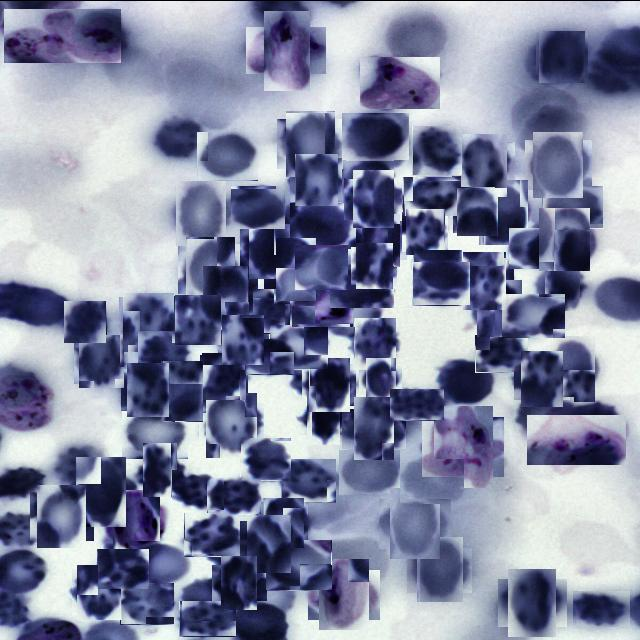red blood cell: (384, 492, 446, 554), (72, 461, 132, 521), (202, 395, 261, 453), (265, 539, 332, 590), (122, 407, 188, 458), (172, 184, 230, 242), (474, 182, 532, 240), (504, 573, 562, 631), (282, 114, 340, 172), (530, 135, 588, 193), (536, 209, 594, 267), (542, 340, 600, 396), (182, 239, 238, 296), (34, 487, 90, 544), (342, 112, 409, 159), (412, 540, 468, 596), (198, 268, 254, 324), (121, 294, 177, 349), (290, 202, 356, 248), (456, 137, 511, 192), (436, 356, 496, 406), (197, 131, 258, 180), (244, 220, 298, 274), (129, 540, 192, 586), (501, 293, 565, 338), (400, 458, 464, 503), (338, 448, 400, 494), (348, 402, 401, 454), (156, 365, 208, 417), (270, 243, 322, 295), (330, 265, 394, 307), (509, 227, 574, 268), (269, 324, 328, 369), (243, 517, 295, 568), (542, 185, 603, 228), (459, 255, 510, 306), (474, 282, 526, 332), (412, 261, 470, 305), (74, 566, 125, 616), (152, 115, 208, 160), (76, 336, 126, 386), (412, 125, 462, 175), (348, 173, 398, 223), (517, 352, 567, 402), (537, 31, 587, 80), (296, 244, 350, 289), (281, 458, 336, 502), (230, 184, 285, 228), (184, 512, 238, 556), (138, 330, 192, 373), (404, 176, 462, 216), (305, 360, 353, 408), (124, 365, 172, 413), (292, 154, 340, 202), (174, 294, 222, 342), (120, 582, 174, 624), (182, 578, 236, 620), (352, 319, 399, 367), (240, 437, 291, 480), (220, 316, 267, 362), (97, 548, 149, 589), (201, 353, 247, 399), (260, 498, 306, 544), (172, 468, 224, 508), (358, 216, 403, 262), (138, 446, 183, 492), (413, 249, 462, 291), (207, 476, 261, 514), (573, 590, 630, 626), (179, 600, 236, 636), (455, 189, 500, 234), (216, 560, 262, 604), (475, 334, 528, 372), (515, 396, 574, 430), (302, 395, 346, 439), (346, 158, 394, 198), (244, 338, 294, 374), (404, 210, 446, 252), (353, 244, 395, 286), (389, 388, 444, 420), (252, 288, 290, 334), (65, 300, 106, 342), (542, 267, 583, 308), (362, 360, 399, 397)
trophozoite: (4, 8, 121, 62), (428, 411, 498, 482), (527, 414, 626, 464), (360, 56, 440, 108), (254, 18, 318, 82), (314, 564, 375, 624), (109, 494, 164, 550), (291, 286, 353, 327)
